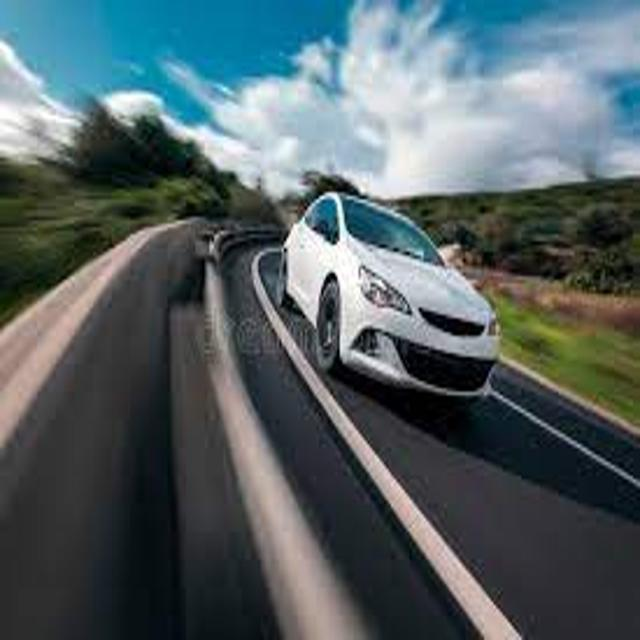car: (277, 191, 501, 398)
